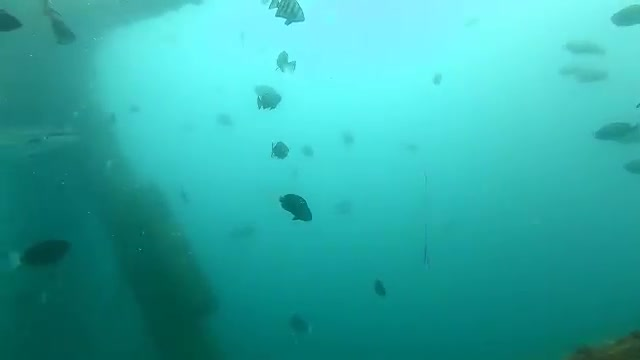ishidai: (266, 1, 308, 34)
smallfish: (1, 236, 78, 274), (253, 88, 294, 122), (275, 191, 314, 224), (272, 47, 302, 70), (268, 139, 294, 160)
